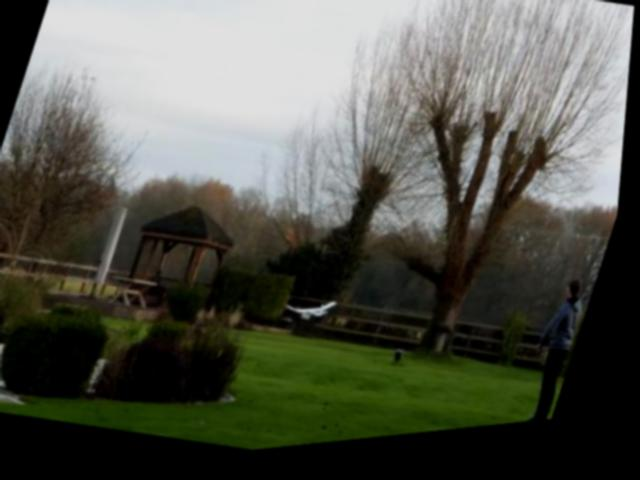uav: (277, 288, 350, 344)
